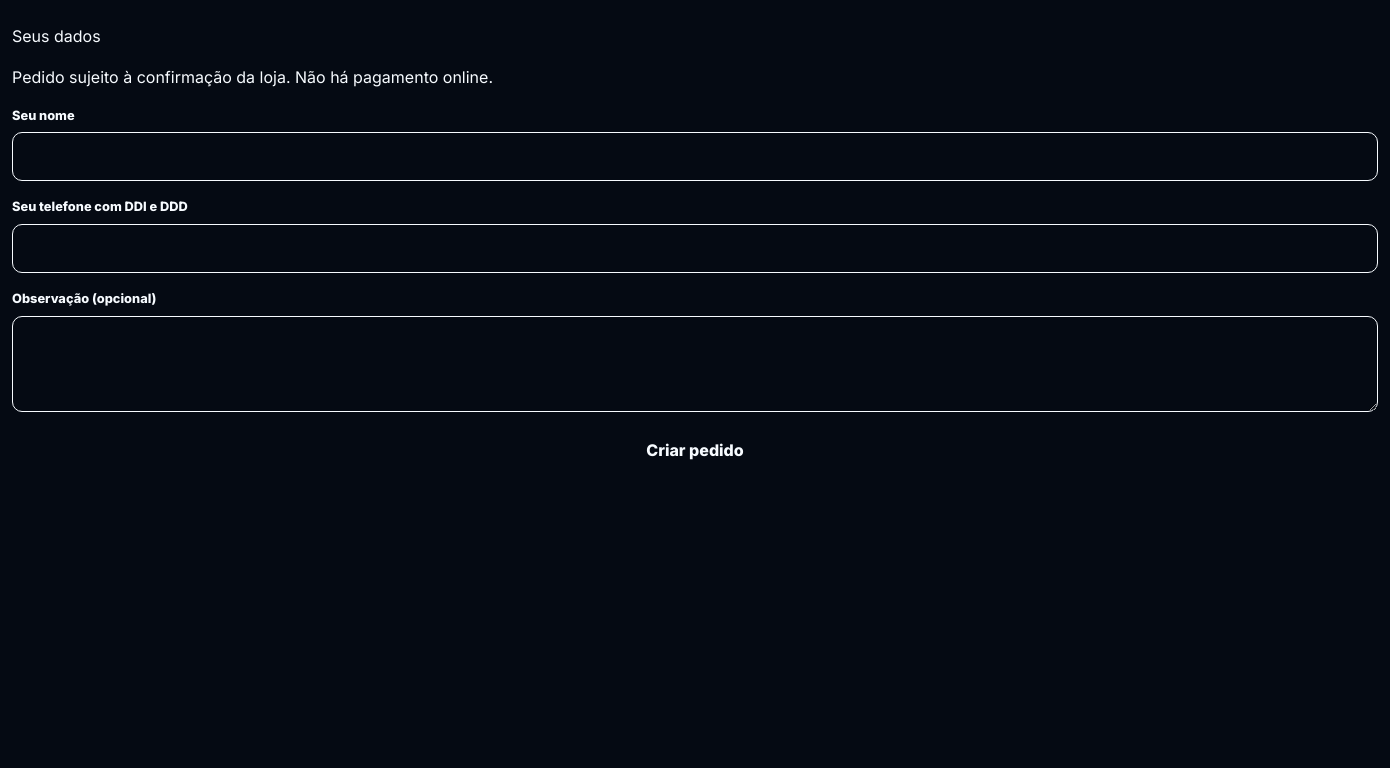
Test: public checkout UI › keeps cart on failure and retries the same request key
Type "Cliente DEMO" into the field labelled "Seu nome" at (695, 157), box [12,132,1378,181]
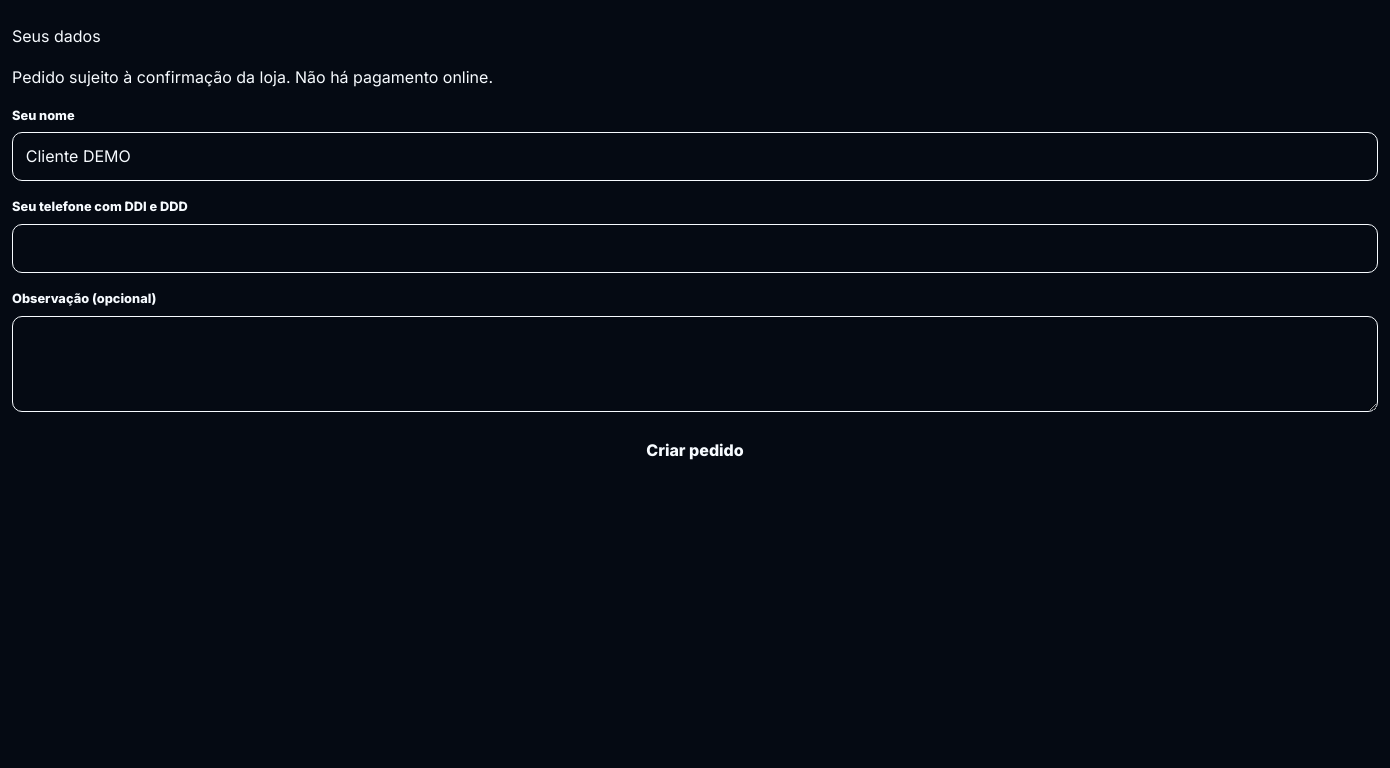
Type "15555550102" into the field labelled "Seu telefone com DDI e DDD" at (695, 248), box [12,224,1378,273]
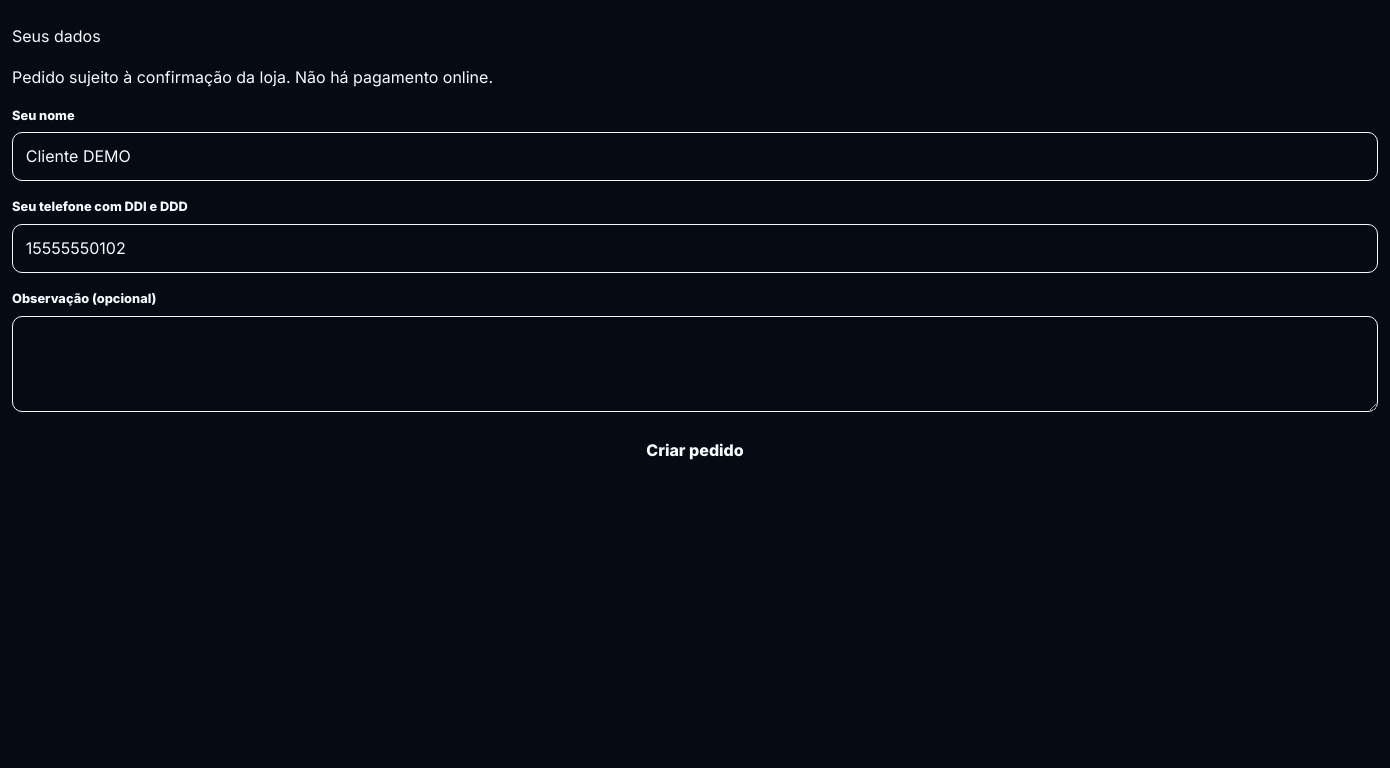
Click the button "Criar pedido" at (695, 450), box [12,428,1378,472]
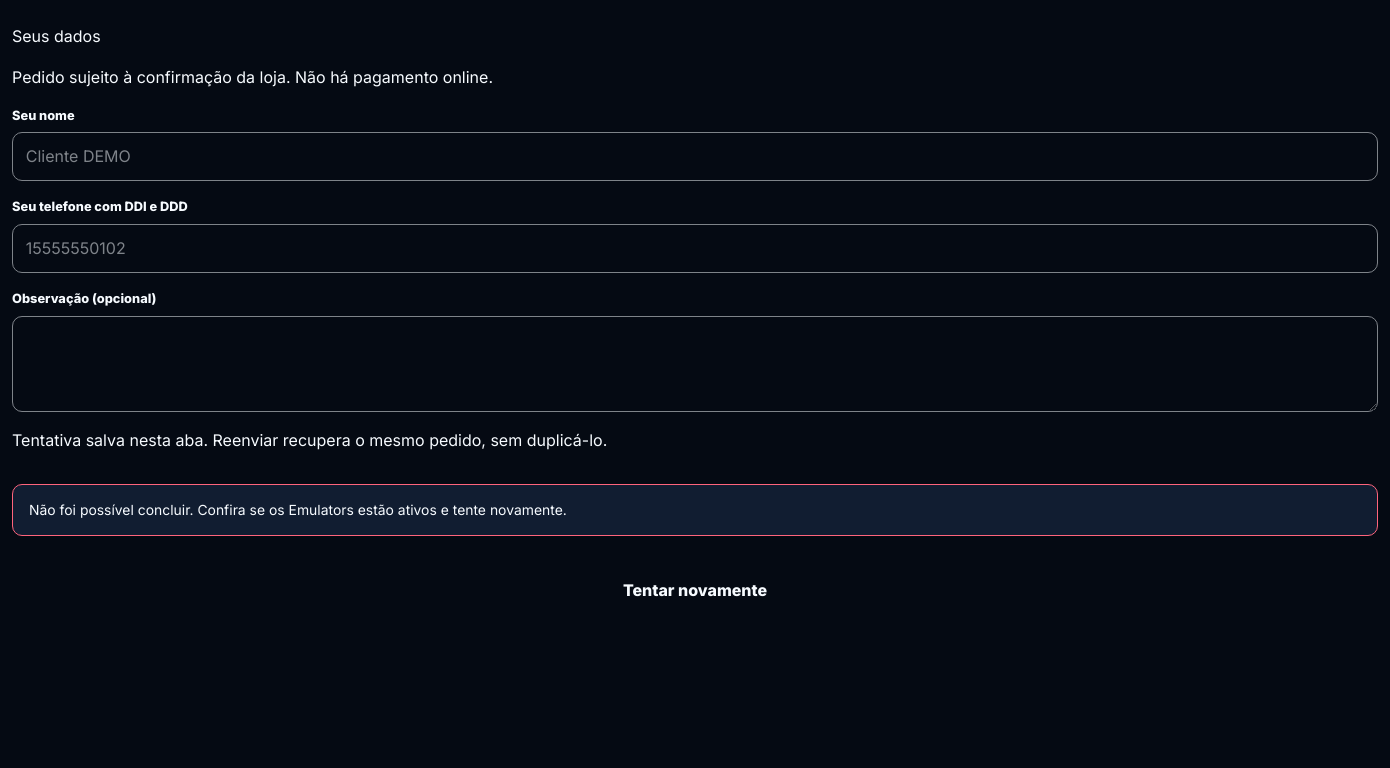
Expected: the 2nd message is shown, [12,484,1378,536]
Click the button "Tentar novamente" at (695, 590), box [12,568,1378,612]
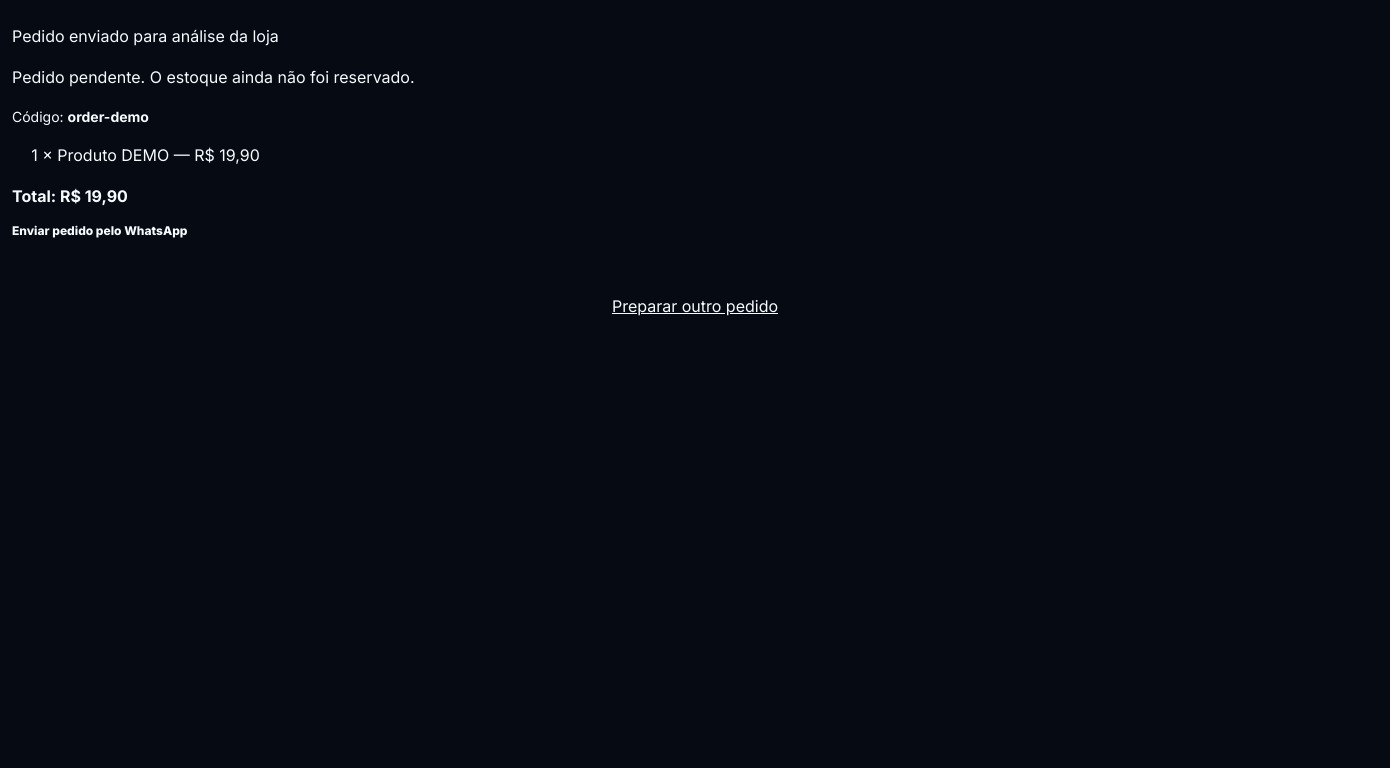
Expected: the link "Enviar pedido pelo WhatsApp" is shown, [12,223,188,238]
